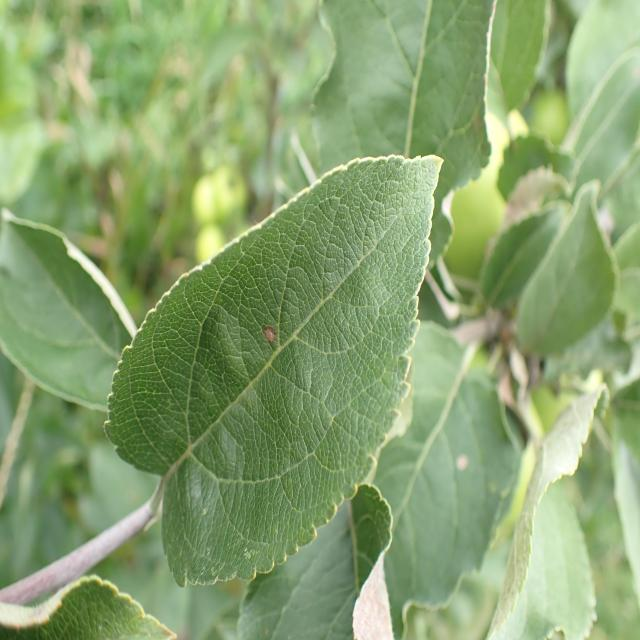Black Rot: (442, 428, 484, 496), (250, 309, 282, 370)
